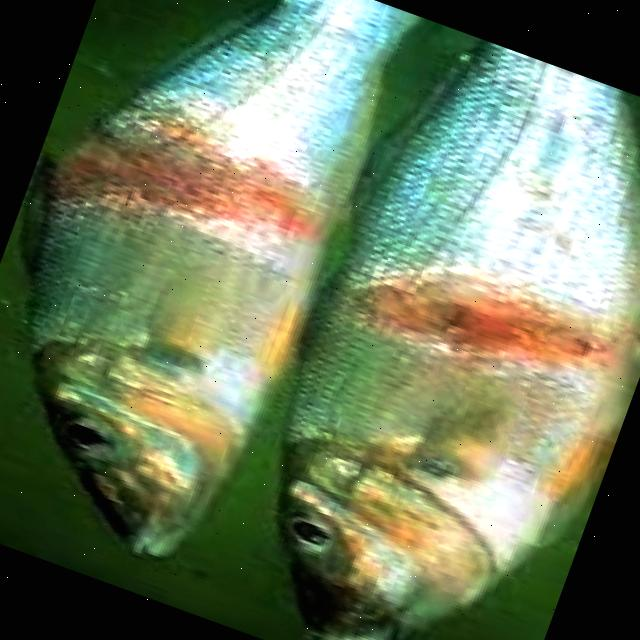Edwardsiella Ictaluri -Bacterial Red Disease-: (21, 0, 419, 555), (277, 40, 640, 640)
